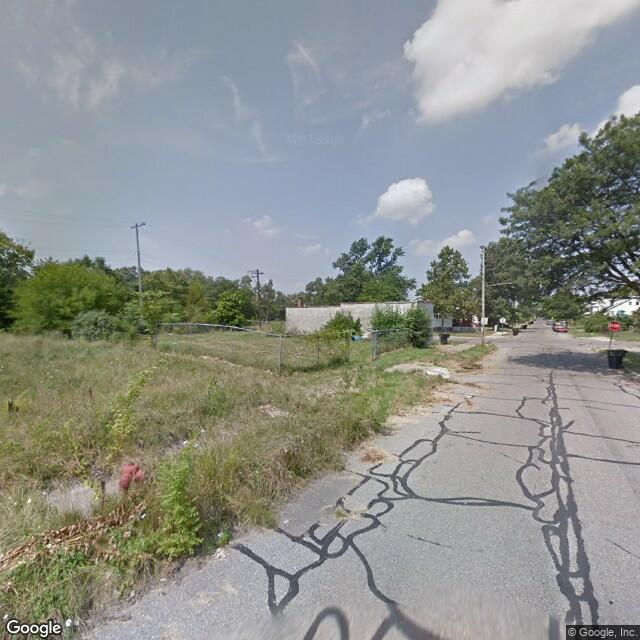litter: (213, 546, 226, 559), (463, 362, 474, 372), (282, 517, 290, 525)
